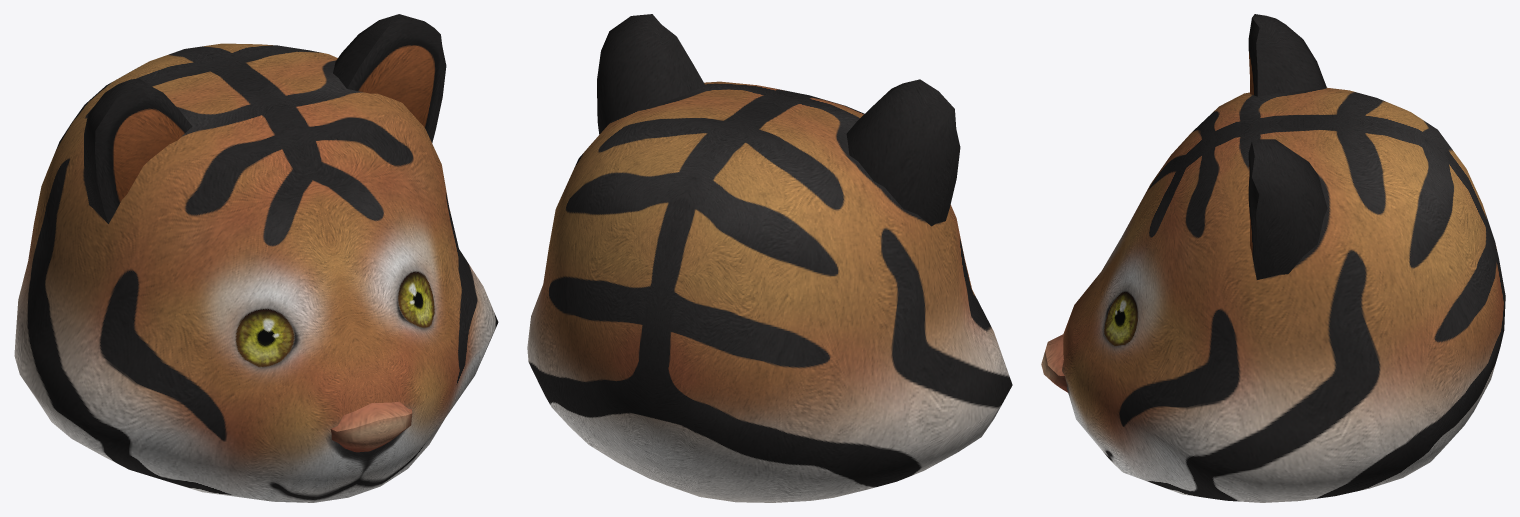
Rendered from CRT0110016.FBX.
3 views of the same model, side by side, from view 1: azimuth 30°, elevation 25°; view 2: azimuth 150°, elevation 25°; view 3: azimuth 270°, elevation 25° (orthographic). The views are drawn at different scales.
Visible parts, largest first — view 1: smCRT0110016; view 2: smCRT0110016; view 3: smCRT0110016.
Part boxes in pixels (x1,y1,x2,y2): smCRT0110016: [14, 14, 498, 502]; smCRT0110016: [527, 14, 1012, 502]; smCRT0110016: [1041, 14, 1505, 502].
Size of the model in its own units: 0.1769 by 0.1598 by 0.1747.
Materials: 1 (1 with a texture image).
